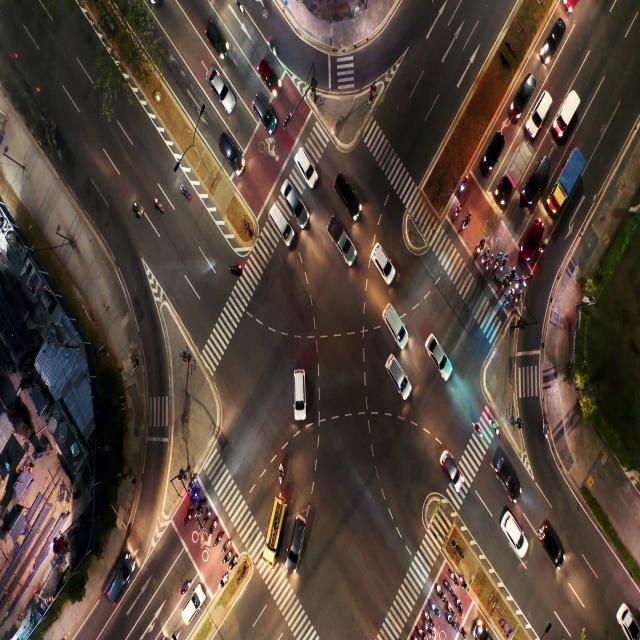bus: (272, 512, 280, 532)
car: (386, 307, 401, 334), (292, 372, 306, 398), (338, 184, 354, 202), (224, 138, 236, 161), (374, 249, 389, 267), (620, 604, 631, 628), (431, 344, 445, 362), (388, 357, 398, 382), (108, 574, 120, 594), (269, 206, 282, 224), (206, 24, 220, 40), (286, 183, 296, 205), (208, 72, 222, 87), (444, 455, 455, 474), (549, 29, 561, 46), (541, 526, 551, 546), (292, 520, 300, 544), (186, 598, 195, 618), (529, 225, 538, 243), (258, 99, 266, 119), (507, 522, 517, 538), (503, 461, 511, 480), (490, 140, 498, 157), (521, 83, 530, 98), (264, 65, 272, 80), (536, 104, 542, 122), (300, 153, 308, 166), (537, 167, 542, 183)
motorcycle: (132, 202, 144, 218), (182, 185, 191, 202), (474, 422, 483, 438), (154, 198, 164, 212), (268, 41, 277, 56), (490, 418, 498, 433), (237, 0, 244, 14), (542, 420, 548, 436), (230, 262, 240, 270), (216, 536, 222, 548), (182, 584, 190, 592), (448, 615, 454, 625), (501, 278, 506, 289), (220, 575, 226, 584), (462, 578, 466, 590), (189, 480, 194, 489), (223, 555, 228, 564), (230, 560, 237, 566), (416, 629, 422, 636), (209, 524, 214, 532), (540, 244, 544, 254), (454, 210, 459, 218), (463, 222, 467, 232), (437, 586, 442, 594), (460, 624, 464, 634), (279, 467, 283, 476), (461, 183, 465, 192), (508, 291, 512, 300), (448, 602, 452, 611), (424, 612, 430, 618), (198, 506, 203, 513), (192, 494, 196, 502), (478, 245, 482, 253), (509, 276, 513, 284), (524, 280, 528, 288), (452, 572, 455, 582), (224, 542, 228, 549), (445, 582, 449, 589), (426, 625, 430, 632), (186, 514, 189, 523), (205, 514, 209, 520), (431, 604, 435, 610), (458, 600, 460, 611), (482, 256, 485, 262), (486, 264, 489, 270), (494, 264, 497, 270), (500, 265, 503, 270), (516, 283, 518, 288), (516, 297, 517, 302)
truck: (562, 163, 579, 188), (334, 228, 348, 255), (510, 163, 520, 182), (564, 100, 574, 118)
